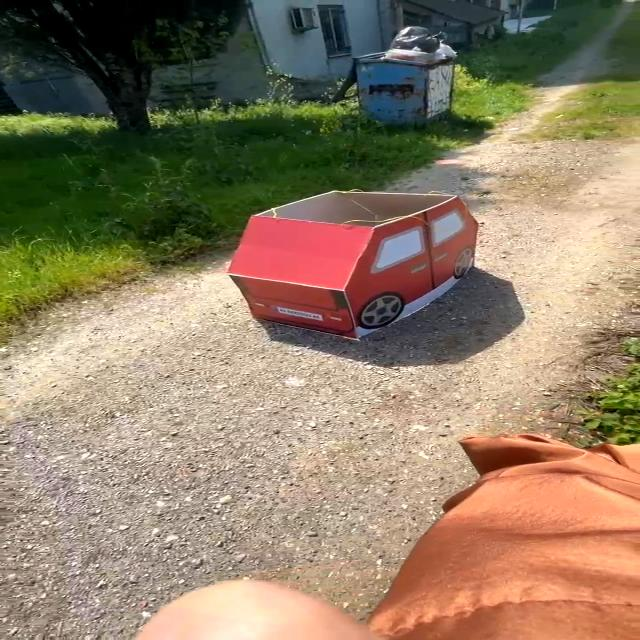red_car: (219, 178, 523, 357)
